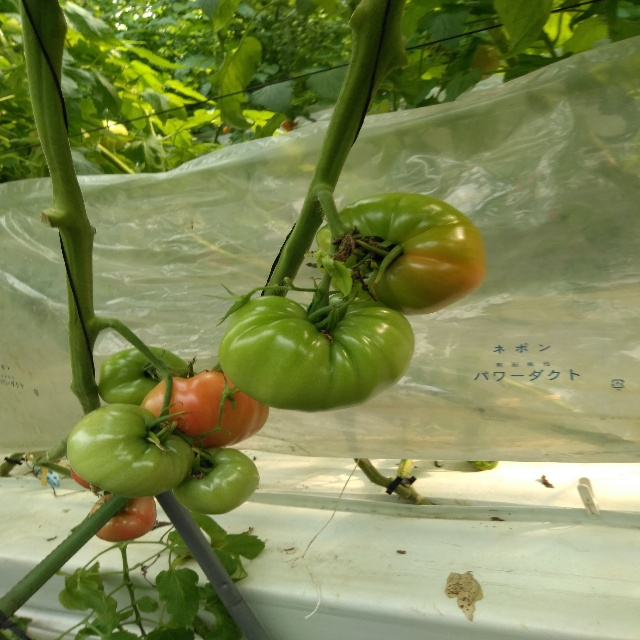b_green: (218, 292, 414, 413), (66, 403, 198, 498), (171, 447, 259, 514), (98, 346, 193, 406)
b_half_ripened: (316, 193, 487, 316), (141, 369, 270, 449), (89, 493, 157, 542)
